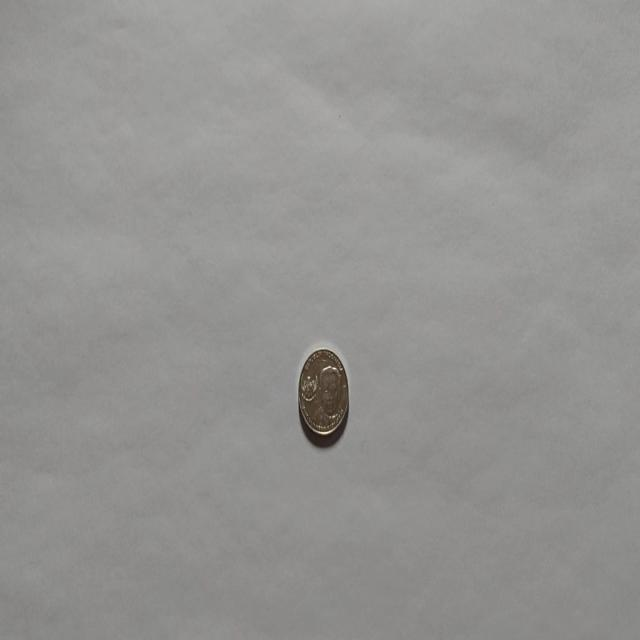seratus rupiah: (297, 346, 349, 438)
